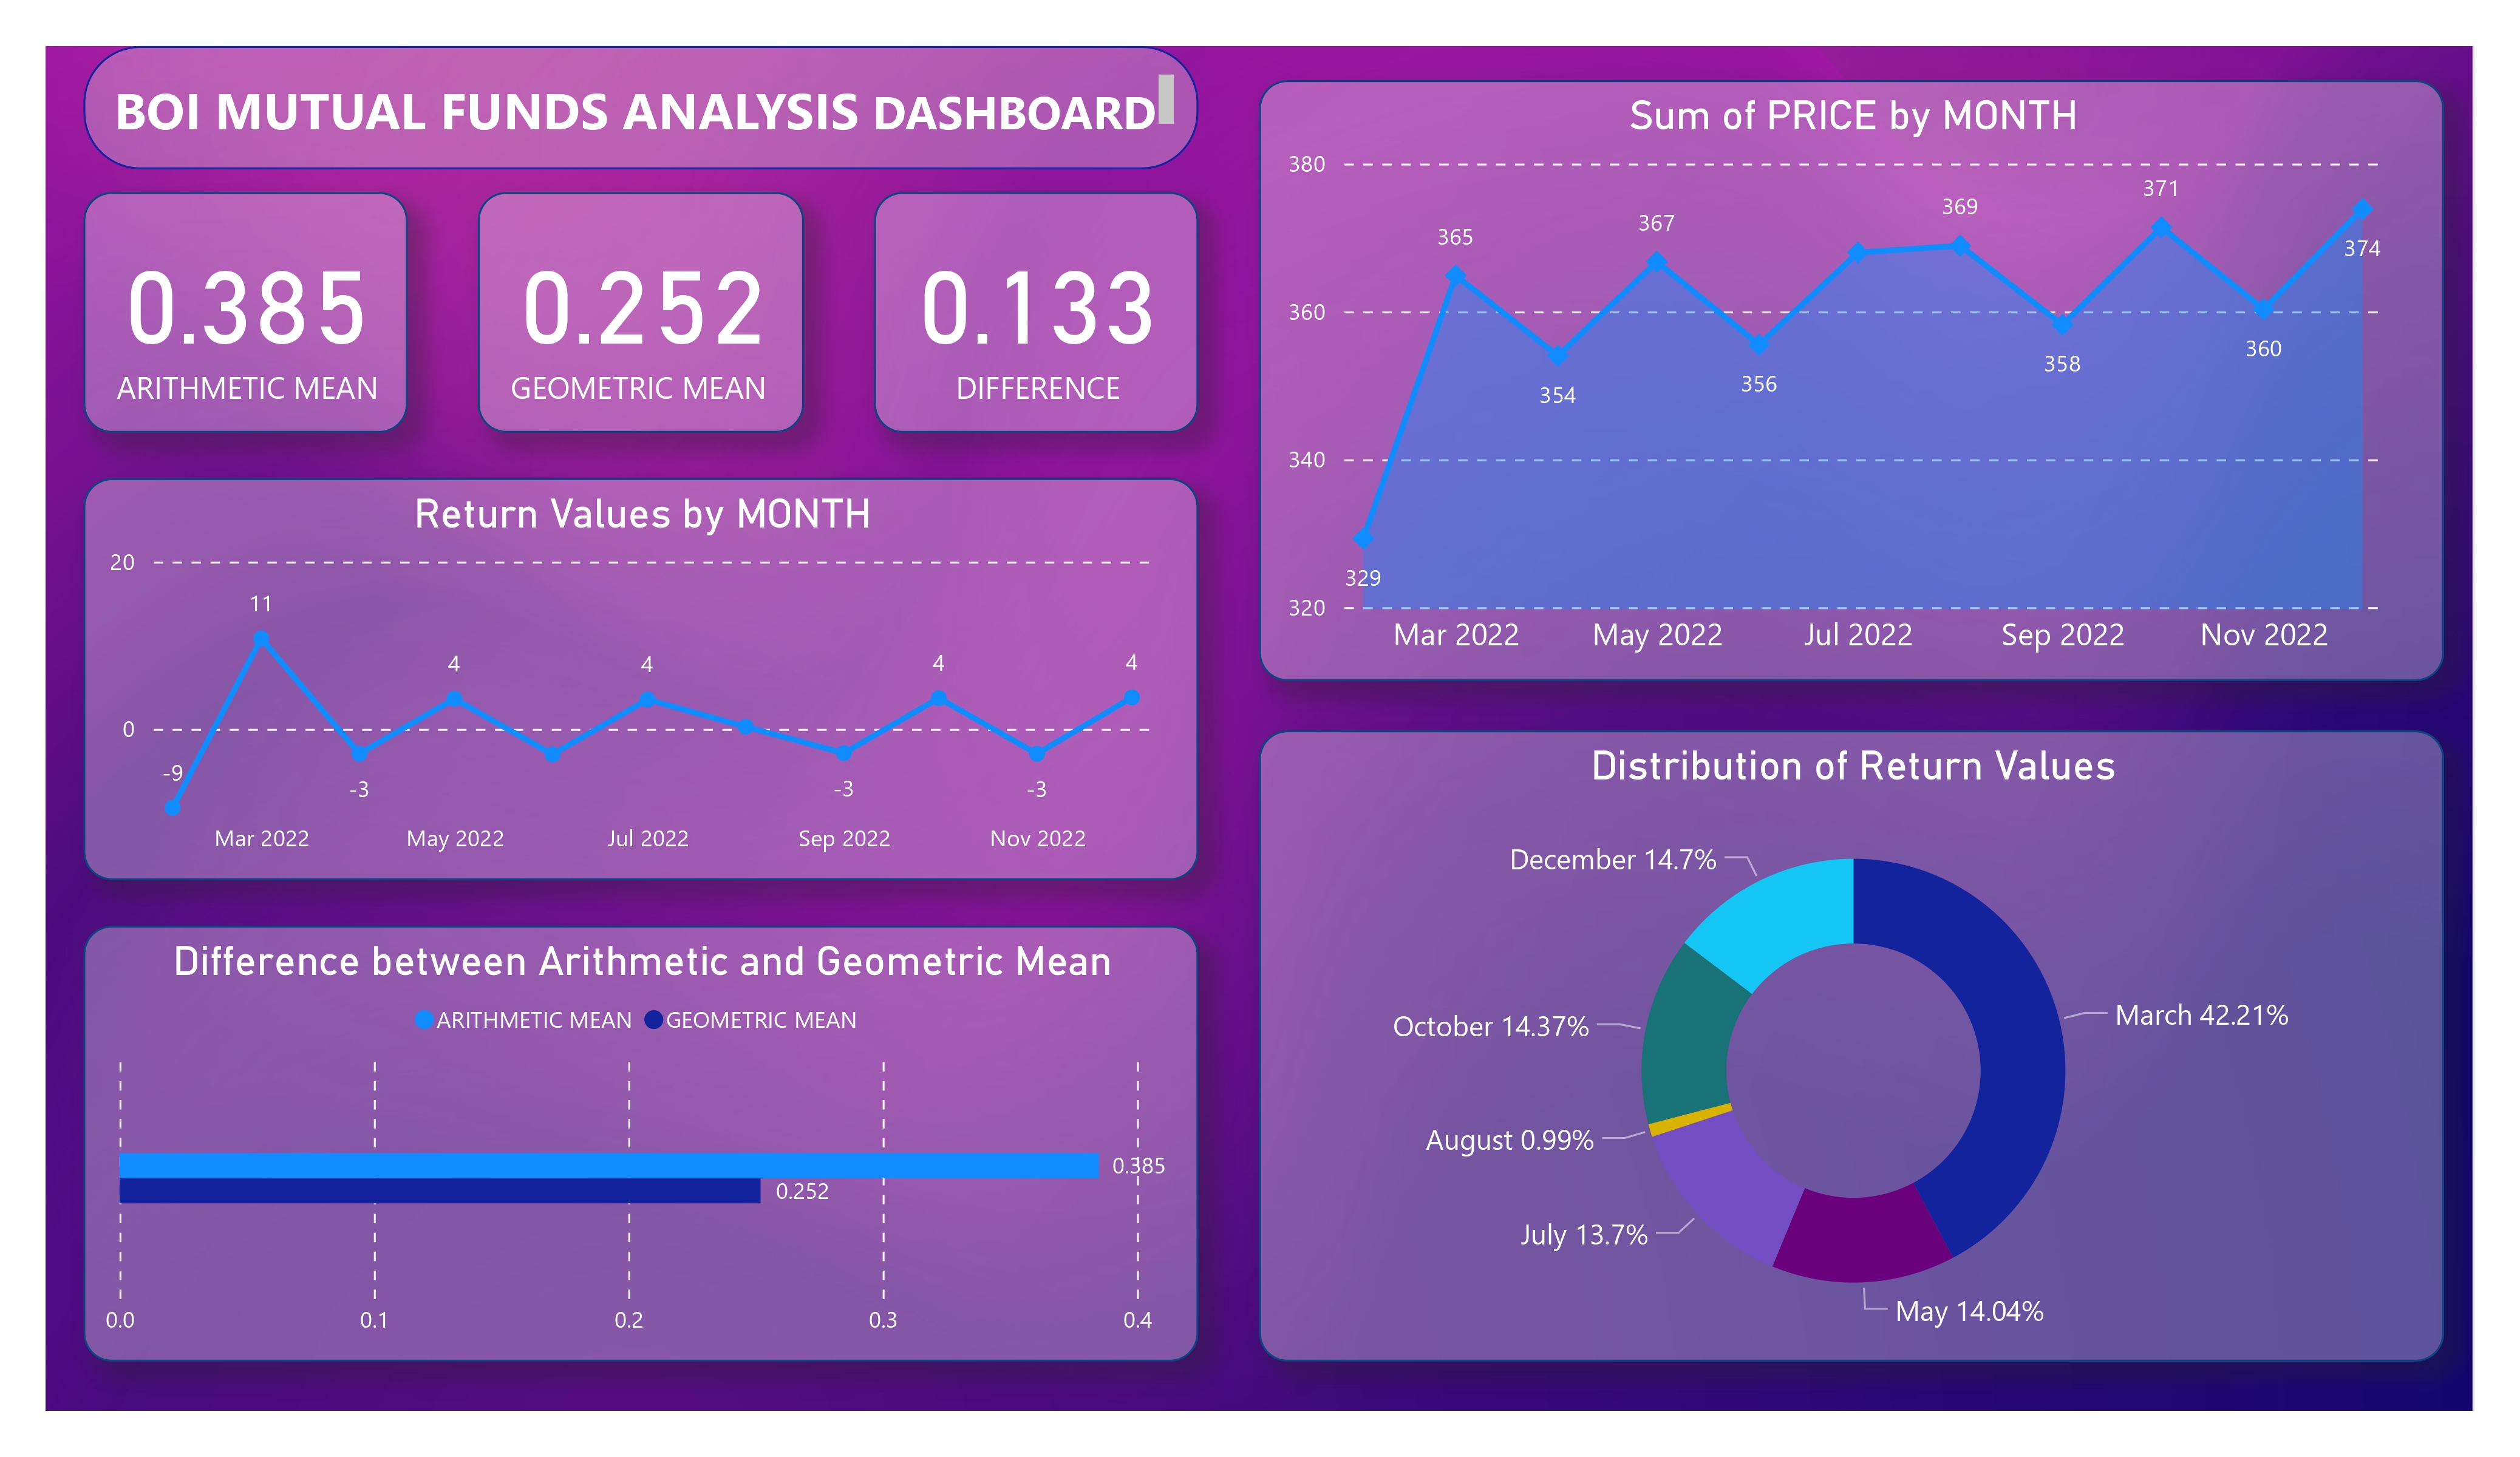

Layout of this report page (visuals, bound fields, positions):
{"tool":"powerbi","page":{"name":"BOI","canvas":[1280,720],"ordinal":1},"visuals":[{"type":"textbox","box":[19.5,0,589,64.6],"z":0},{"type":"lineChart","title":"Return Values by MONTH","fields":{"Y":["Sum(BOI.RETURN)"],"Category":["AXIS.MONTH.Variation.Date Hierarchy.Year","AXIS.MONTH.Variation.Date Hierarchy.Quarter","AXIS.MONTH.Variation.Date Hierarchy.Month","AXIS.MONTH.Variation.Date Hierarchy.Day"]},"box":[19.5,228.4,589,211.8],"z":1000},{"type":"areaChart","fields":{"Category":["AXIS.MONTH"],"Y":["Sum(BOI.PRICE)"]},"box":[640,18,625,317],"z":2000},{"type":"donutChart","title":"Distribution of Return Values","fields":{"Category":["AXIS.MONTH.Variation.Date Hierarchy.Month","AXIS.MONTH.Variation.Date Hierarchy.Day"],"Y":["Sum(BOI.RETURN)"]},"box":[640,360.6,625,333.5],"z":3000},{"type":"clusteredBarChart","title":"Difference between Arithmetic and Geometric Mean","fields":{"Y":["Sum(boi (2).ARITHMETIC MEAN)","Sum(boi (2).GEOMETRIC MEAN )"]},"box":[19.5,464.3,589,229.9],"z":4000},{"type":"card","fields":{"Values":["Sum(boi (2).ARITHMETIC MEAN)"]},"box":[19.5,76.6,171.3,127.7],"z":5000},{"type":"card","fields":{"Values":["Sum(boi (2).GEOMETRIC MEAN )"]},"box":[228.4,76.6,171.3,127.7],"z":6000},{"type":"card","fields":{"Values":["Sum(boi (2).DIFFERENCE)"]},"box":[437.2,76.6,171.3,127.7],"z":7000}]}

Visuals, with their boxes in screenshot pixels (x1, y1, x2, y2):
textbox: 83/46/1200/168
"Return Values by MONTH" lineChart: 83/479/1200/881
areaChart - AXIS.MONTH x Sum(BOI.PRICE): 1260/80/2446/681
"Distribution of Return Values" donutChart: 1260/730/2446/1362
"Difference between Arithmetic and Geometric Mean" clusteredBarChart: 83/926/1200/1362
card - Sum(boi (2).ARITHMETIC MEAN): 83/191/407/433
card - Sum(boi (2).GEOMETRIC MEAN ): 479/191/804/433
card - Sum(boi (2).DIFFERENCE): 875/191/1200/433
